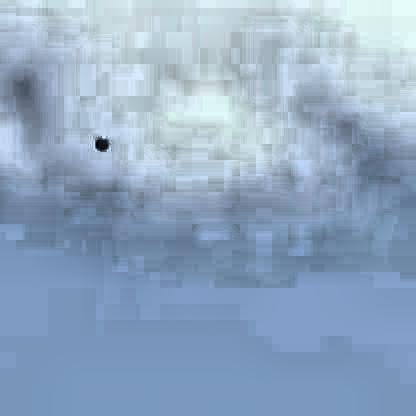golfball: (91, 131, 107, 149)
